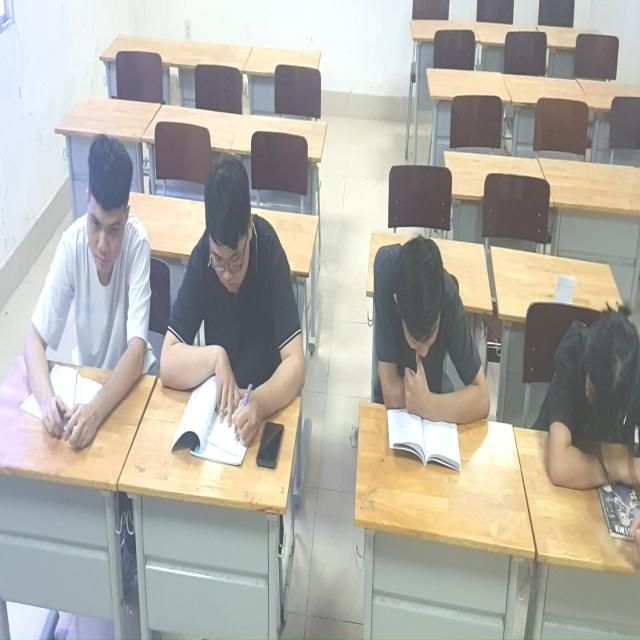read: (3, 112, 144, 451), (151, 140, 297, 467), (369, 202, 475, 470)
sleep: (541, 295, 640, 524)
